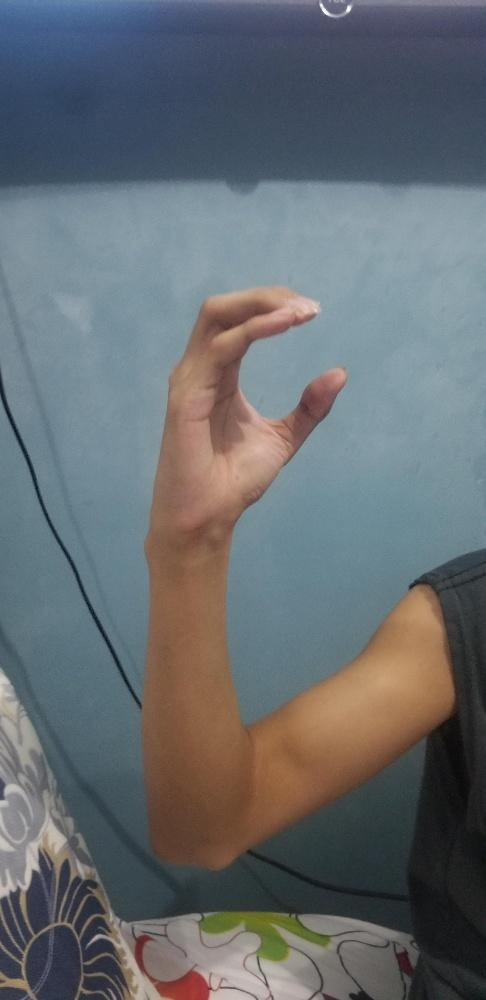c: (140, 280, 348, 564)
